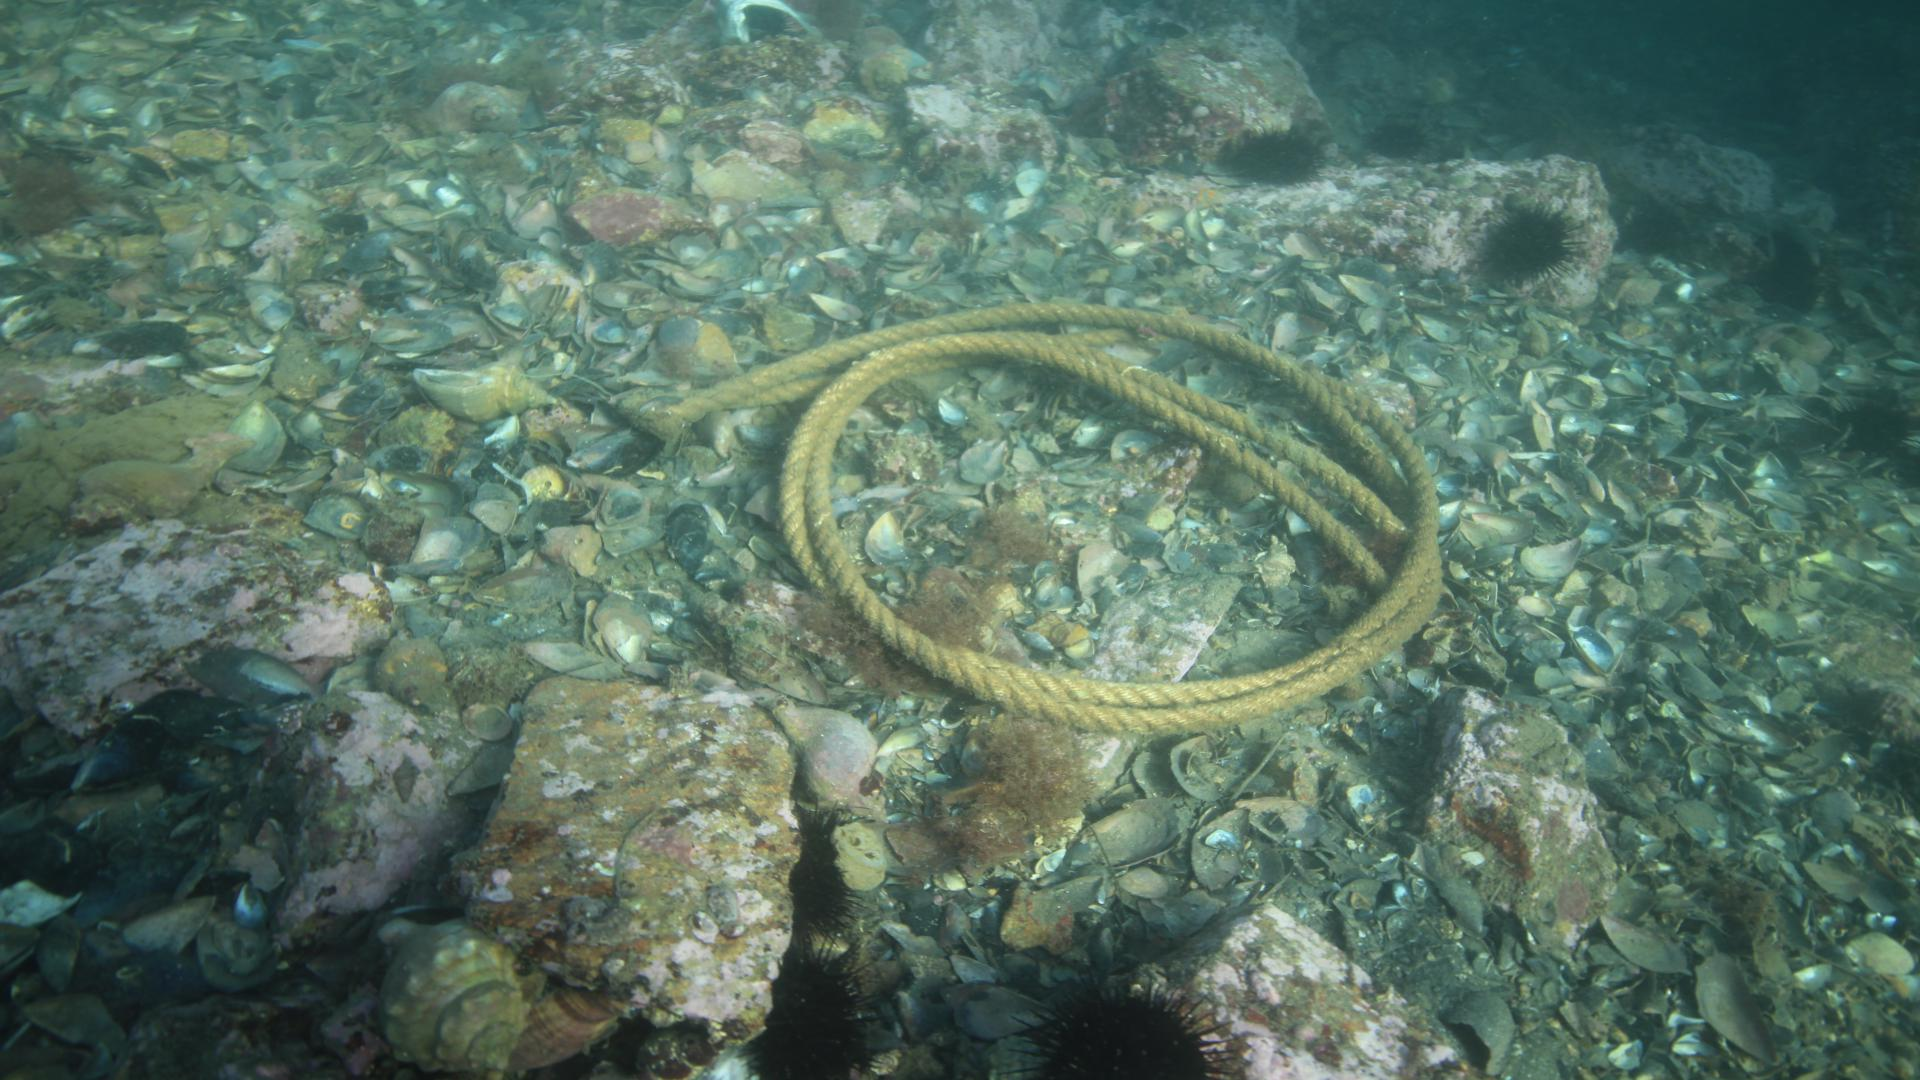bundle of ropes: (680, 297, 1451, 742)
